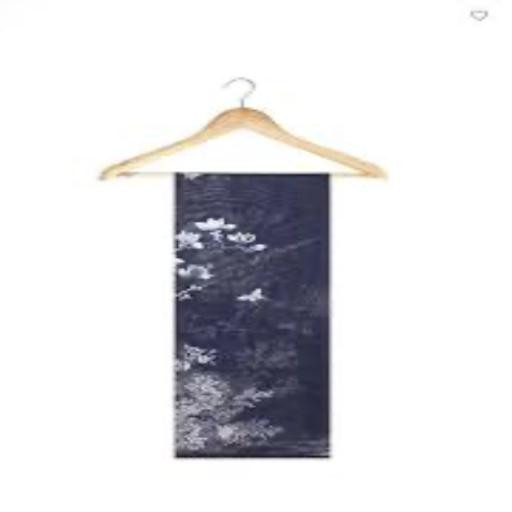Dupatta: (157, 164, 338, 471)
